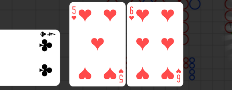10H: (174, 67, 181, 83)
5H: (70, 5, 77, 21)
